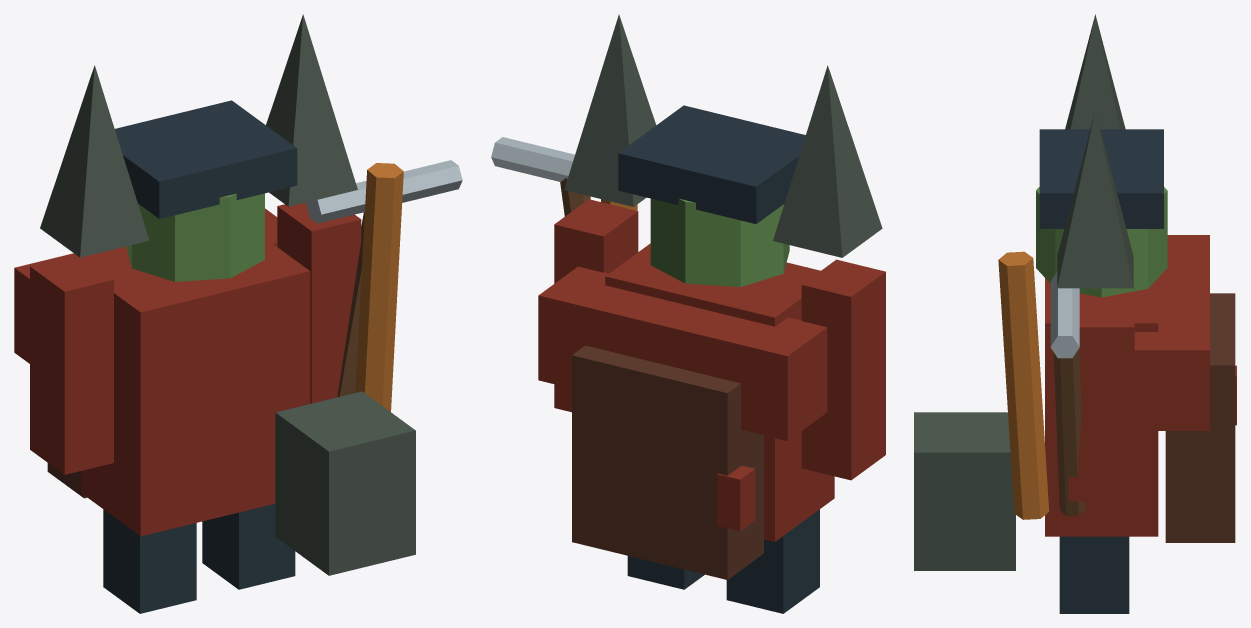
File: worker.obj
The picture shows the model from 3 angles, left to right: view 1: azimuth 30°, elevation 25°; view 2: azimuth 150°, elevation 25°; view 3: azimuth 270°, elevation 25°; orthographic projection. The views are drawn at different scales.
Parts seen in each view (by area): view 1: worker; view 2: worker; view 3: worker.
Part boxes in pixels (x1=…): worker: x1=14, y1=14, x2=462, y2=613; worker: x1=491, y1=14, x2=885, y2=613; worker: x1=914, y1=14, x2=1236, y2=613.
Bounding box in the file's own units: 1.34 × 1.79 × 1.01.
